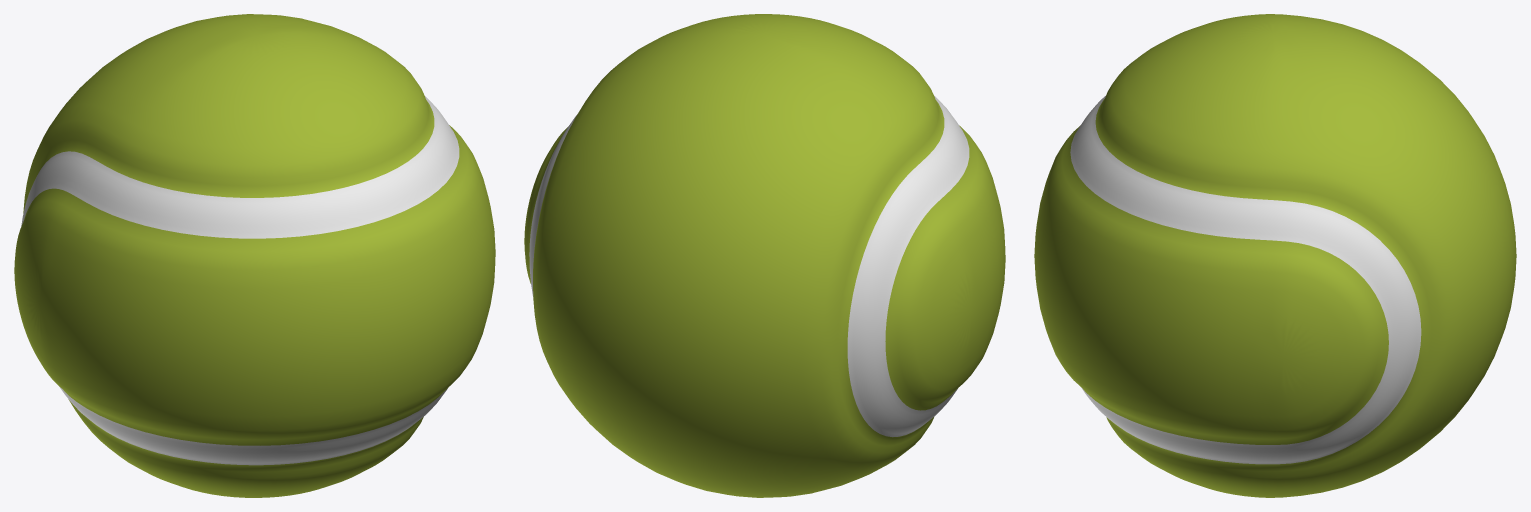
The model's file is tennis.glb.
3 views of the same model, side by side, from view 1: azimuth 30°, elevation 25°; view 2: azimuth 150°, elevation 25°; view 3: azimuth 270°, elevation 25° (orthographic).
Visible parts, largest first — view 1: tennisV2; view 2: tennisV2; view 3: tennisV2.
Part boxes in pixels (<box>): tennisV2: <box>14,14,495,497</box>; tennisV2: <box>524,14,1005,497</box>; tennisV2: <box>1034,14,1516,497</box>.
Size of the model in its own units: 0.1651 by 0.1652 by 0.1637.
